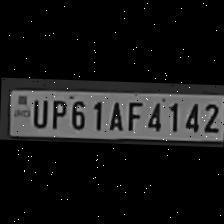1: (87, 96, 105, 130), (164, 98, 181, 132)
2: (198, 98, 220, 132)
4: (142, 98, 164, 132), (180, 98, 200, 132)
6: (66, 96, 88, 132)
A: (104, 97, 124, 131)
F: (122, 98, 142, 131)
P: (47, 96, 67, 130)
U: (28, 96, 48, 129)
